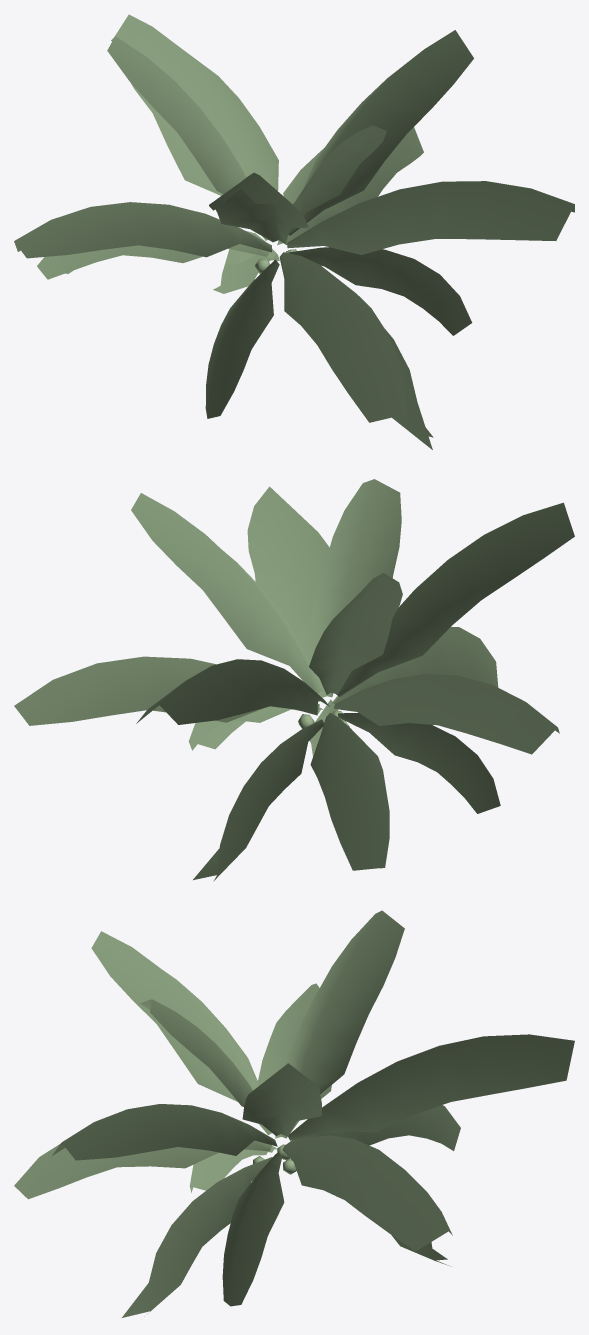
Rendered from palm_tall_crown.glb.
3 renders of one model, top to bottom at view 1: azimuth 30°, elevation 25°; view 2: azimuth 150°, elevation 25°; view 3: azimuth 270°, elevation 25°, orthographic. The views are drawn at different scales.
Visible parts, largest first — view 1: palm_tall_crown; view 2: palm_tall_crown; view 3: palm_tall_crown.
Part boxes in pixels (x1,y1,x2,y2): palm_tall_crown: (14, 14, 574, 449); palm_tall_crown: (14, 479, 574, 881); palm_tall_crown: (14, 910, 574, 1317).
Size of the model in its own units: 8.44 by 6.12 by 9.49.
